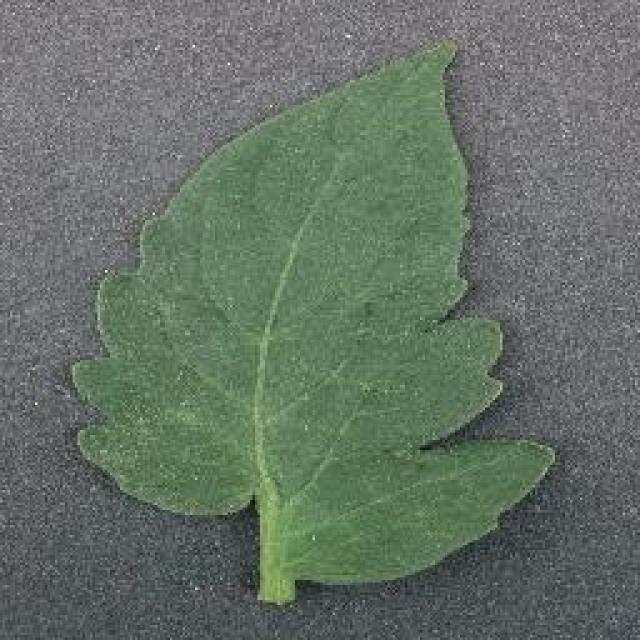Tomato_Healthy: (62, 37, 556, 582)
